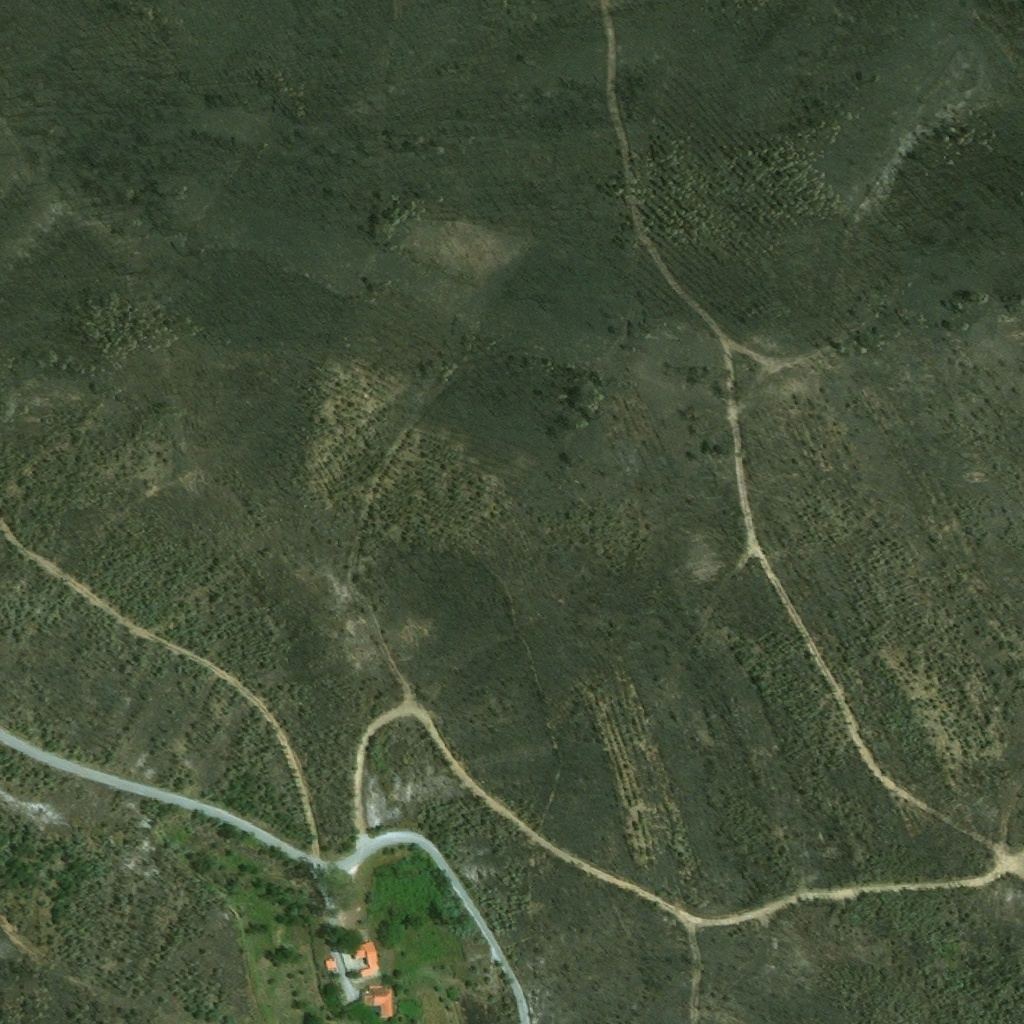0 no-damage: (361, 985, 394, 1019), (353, 939, 380, 977), (324, 958, 339, 975)
